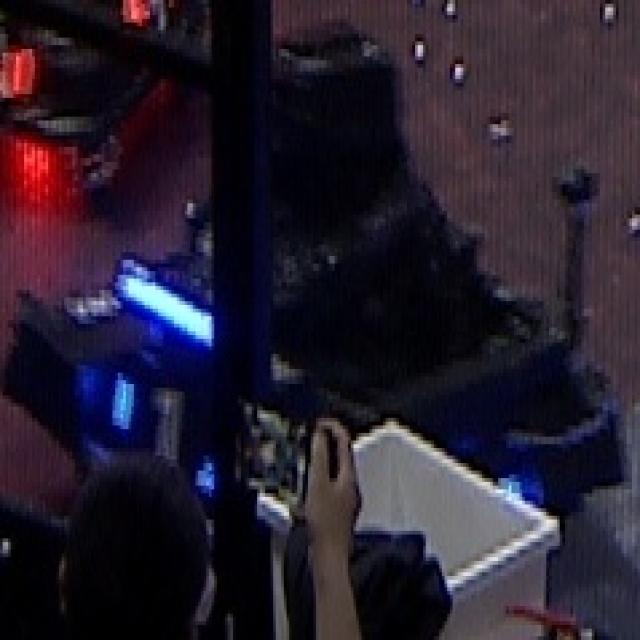B1: (110, 373, 214, 493)
